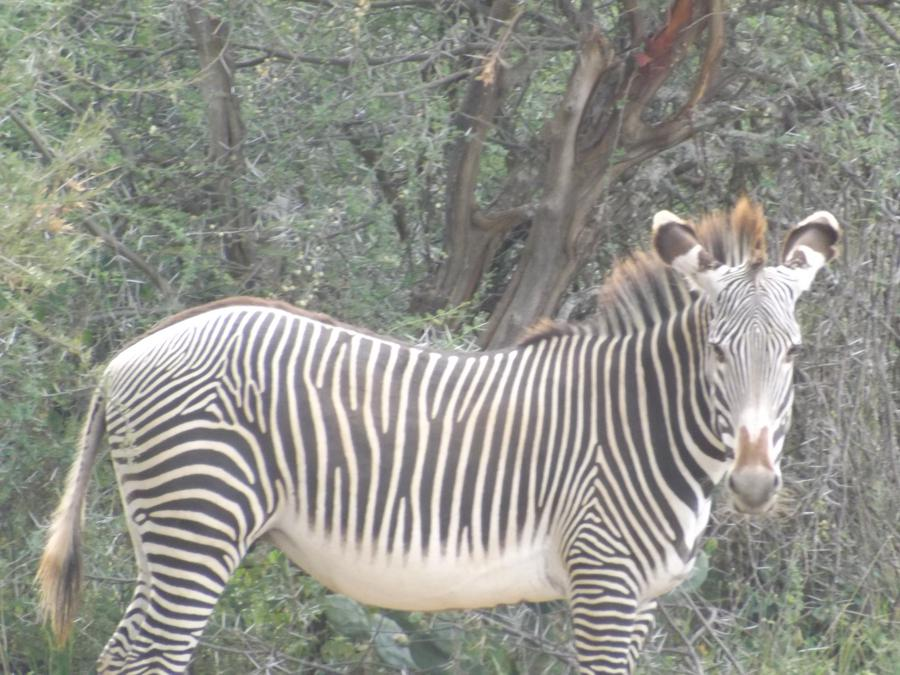zebra_grevys: (87, 270, 659, 604)
